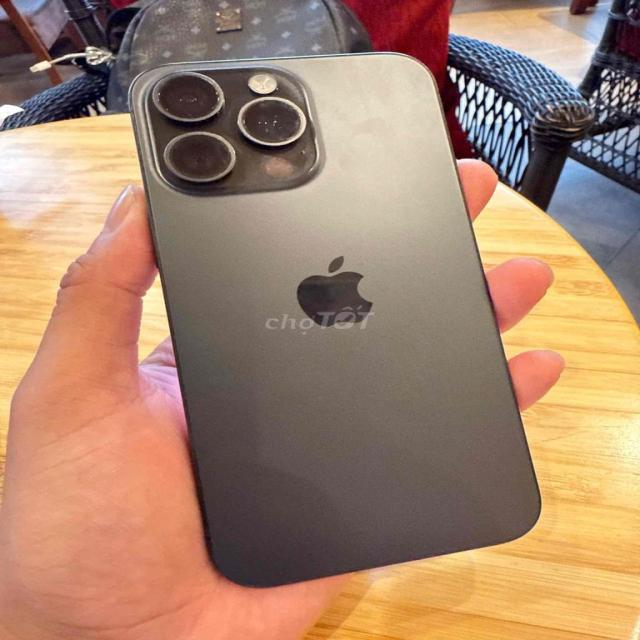gen_15: (105, 43, 555, 590)
